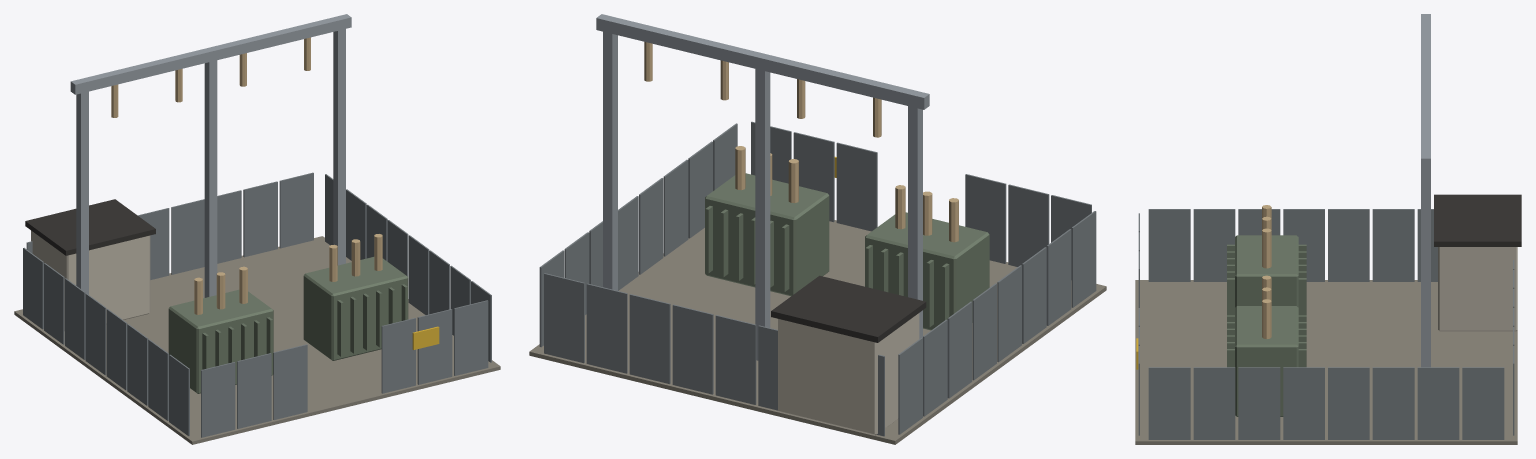
Rendered from substation.glb.
3 renders of one model, left to right at view 1: azimuth 30°, elevation 25°; view 2: azimuth 150°, elevation 25°; view 3: azimuth 270°, elevation 25°, orthographic. The views are drawn at different scales.
Visible parts, largest first — view 1: substation; view 2: substation; view 3: substation.
Part boxes in pixels (box(x1,y1,x2,y2)): substation: box(14, 14, 500, 444); substation: box(529, 14, 1106, 444); substation: box(1135, 14, 1521, 444).
Bounding box in the file's own units: 9.6 × 7.7 × 9.7.
